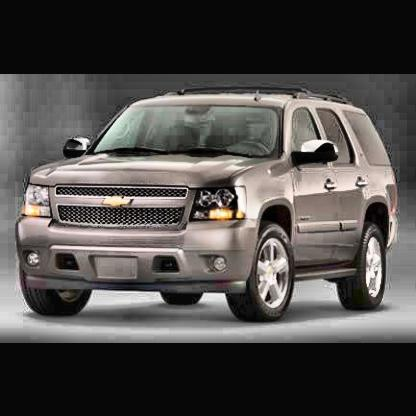Chevrolet Tahoe Hybrid SUV 2012: (20, 86, 400, 320)
